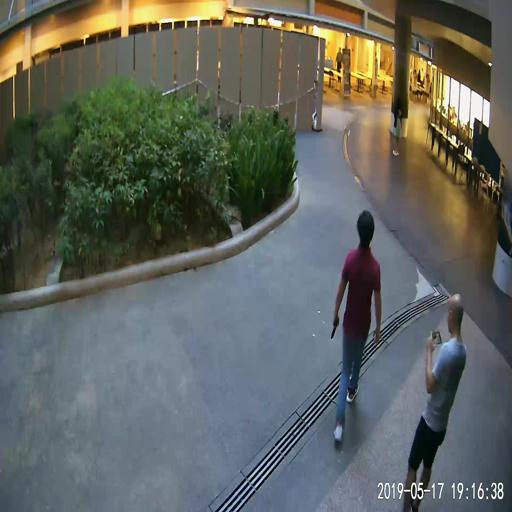pistol: (330, 316, 339, 339)
